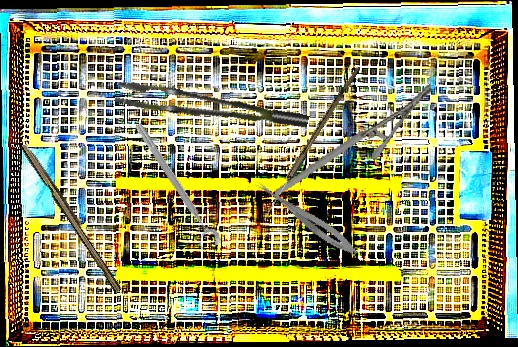Fixation Ring: (124, 120, 224, 254)
Micro Scissor: (250, 177, 362, 260)
Needle Holder: (257, 83, 449, 197)
Scalpel Handle: (17, 141, 127, 294)
Surgical Spoon: (261, 63, 361, 223)
Tissue Forceps: (113, 63, 310, 154)
